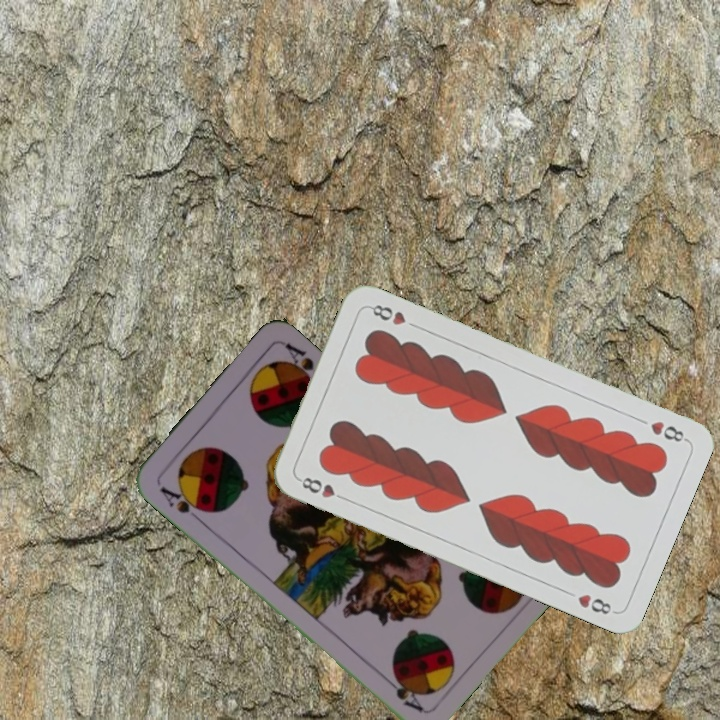H8: (294, 472, 350, 503), (647, 417, 690, 445)
SA: (155, 482, 210, 525)
